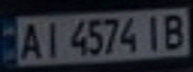4: (118, 14, 142, 54), (66, 17, 87, 56)
5: (84, 16, 106, 56)
7: (103, 15, 124, 55)
A: (15, 19, 45, 61)
B: (157, 10, 190, 51)
I: (139, 11, 169, 52), (36, 18, 66, 58)
